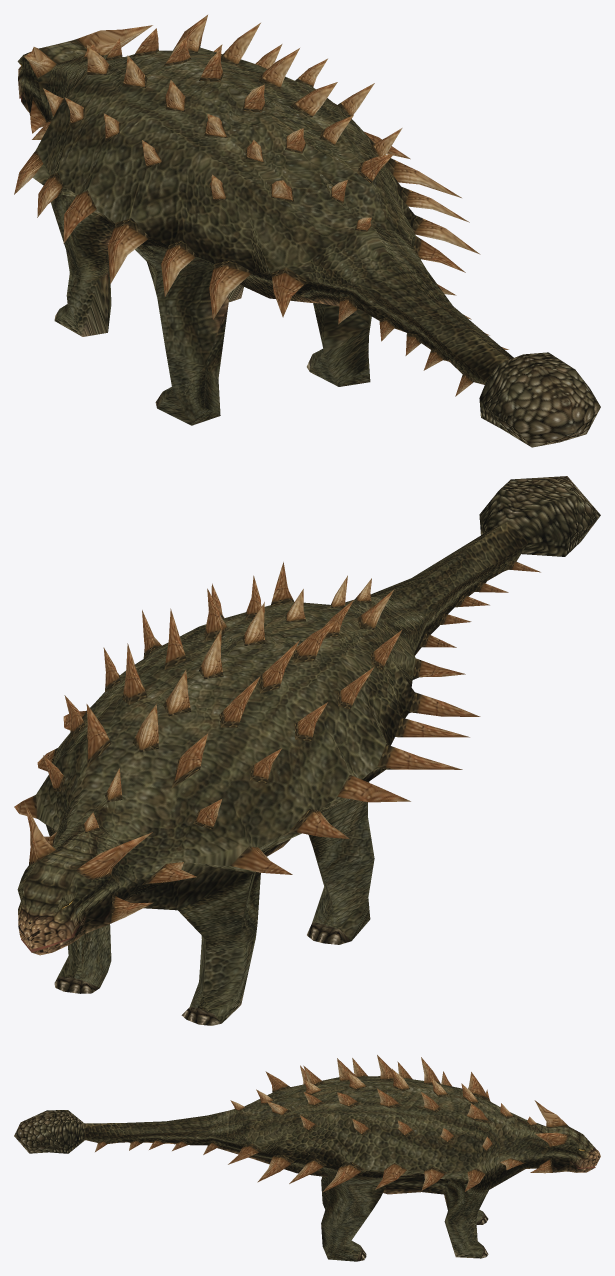
The model's file is dino_crisis_-_ankylosaurus.glb.
The picture shows the model from 3 angles, top to bottom: view 1: azimuth 30°, elevation 25°; view 2: azimuth 150°, elevation 25°; view 3: azimuth 270°, elevation 25°; orthographic projection. The views are drawn at different scales.
Parts seen in each view (by area): view 1: ankylosaurus; view 2: ankylosaurus; view 3: ankylosaurus.
Part boxes in pixels (left/top/right/bottom): ankylosaurus: left=14, top=15, right=600, bottom=447; ankylosaurus: left=14, top=476, right=600, bottom=1025; ankylosaurus: left=14, top=1055, right=600, bottom=1261.
Bounding box in the file's own units: 10.63 × 9.03 × 28.53.
1 material, 1 textured.
